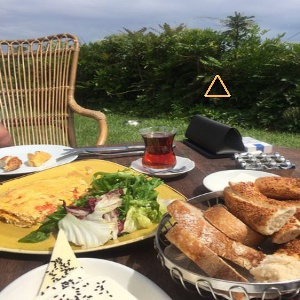triangle: (203, 73, 233, 101)
